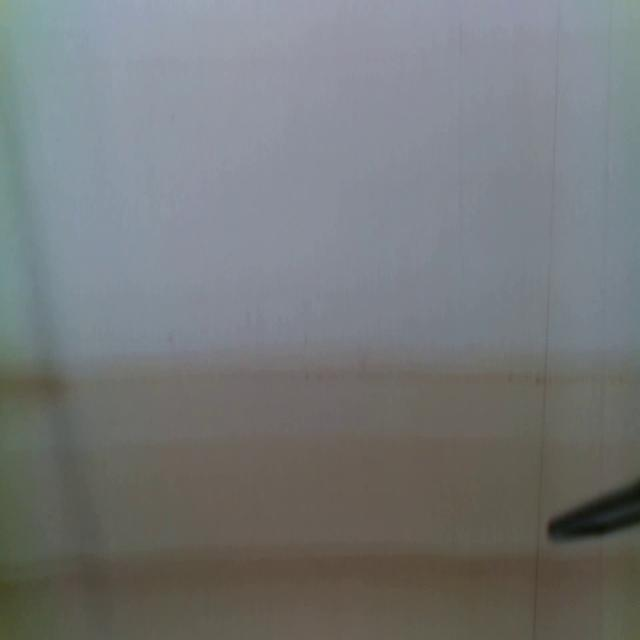color bleeding: (0, 354, 544, 640)
crease: (531, 0, 560, 638)
